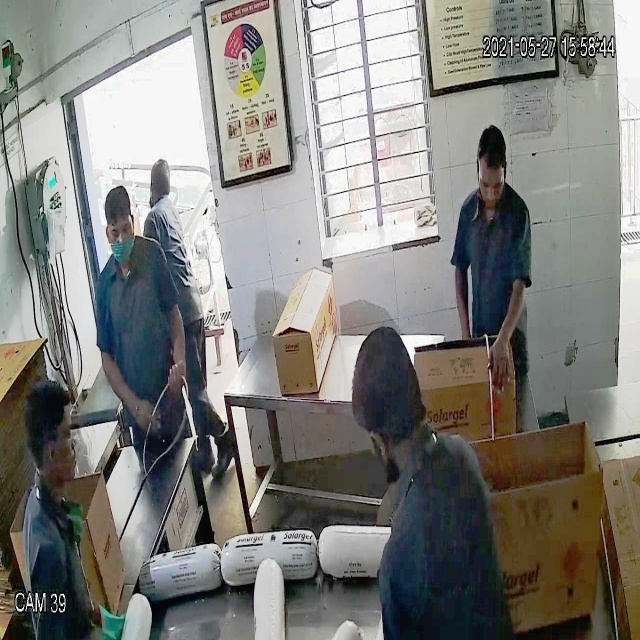Sin_gafas: (97, 212, 142, 249), (472, 167, 510, 198)
